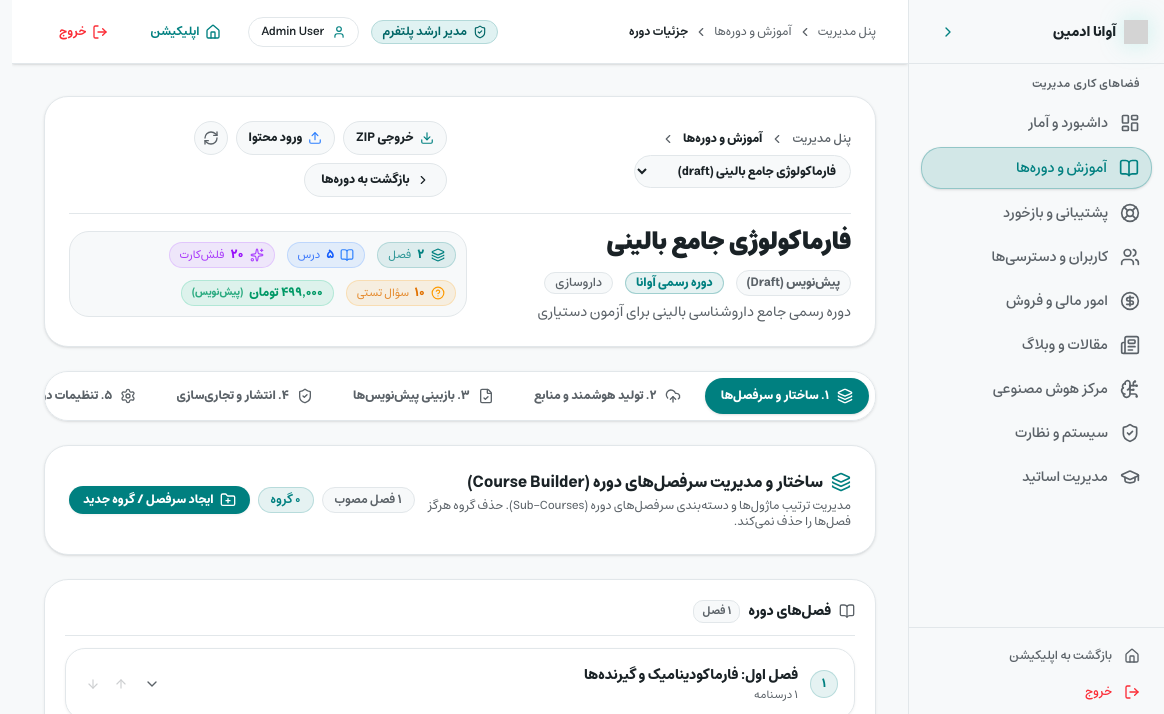
Test case: AdminCourseHubPage (/admin/courses/:courseId) › Case 5: Interactive tab switching renders the target panel
Check: the heading "فارماکولوژی جامع بالینی" is shown, box [607,226,851,258]
Click the button "۵. تنظیمات دوره" at {"x": 84, "y": 396}, box [15,378,152,414]
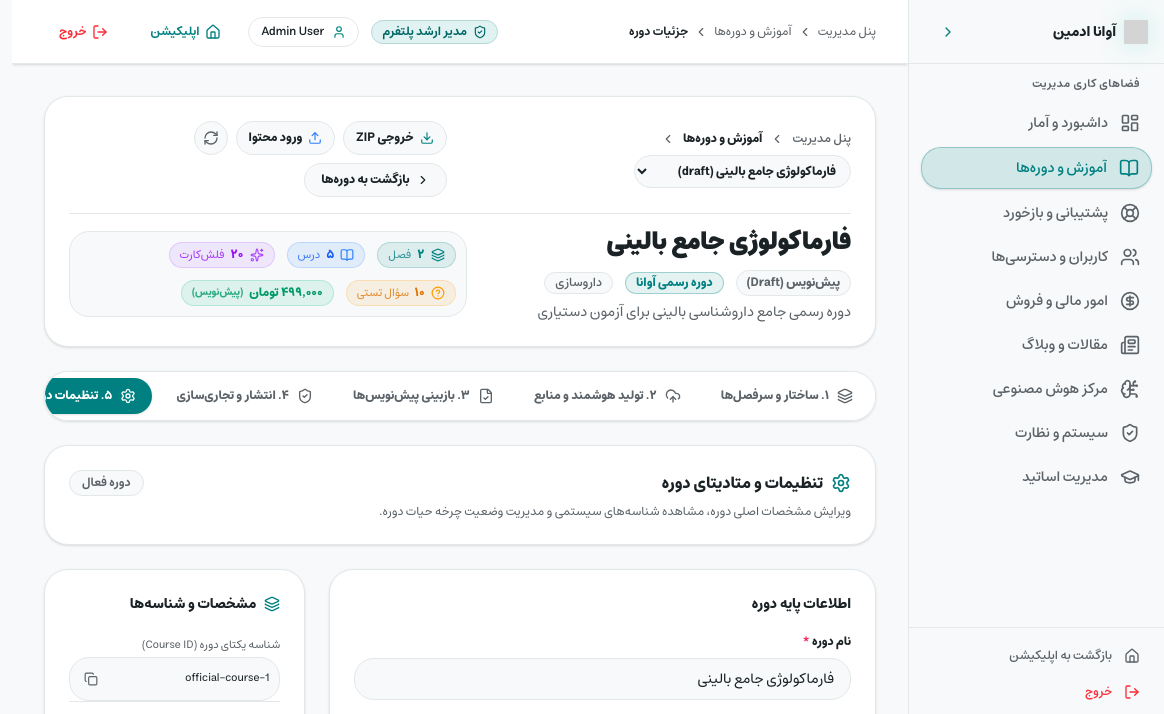
Check: the text "تنظیمات و متادیتای دوره" is shown, box [662,471,823,495]
Check: the text "اطلاعات پایه دوره" is shown, box [752,594,851,614]
Click the button "۴. انتشار و تجاری‌سازی" at {"x": 245, "y": 396}, box [160,378,329,414]
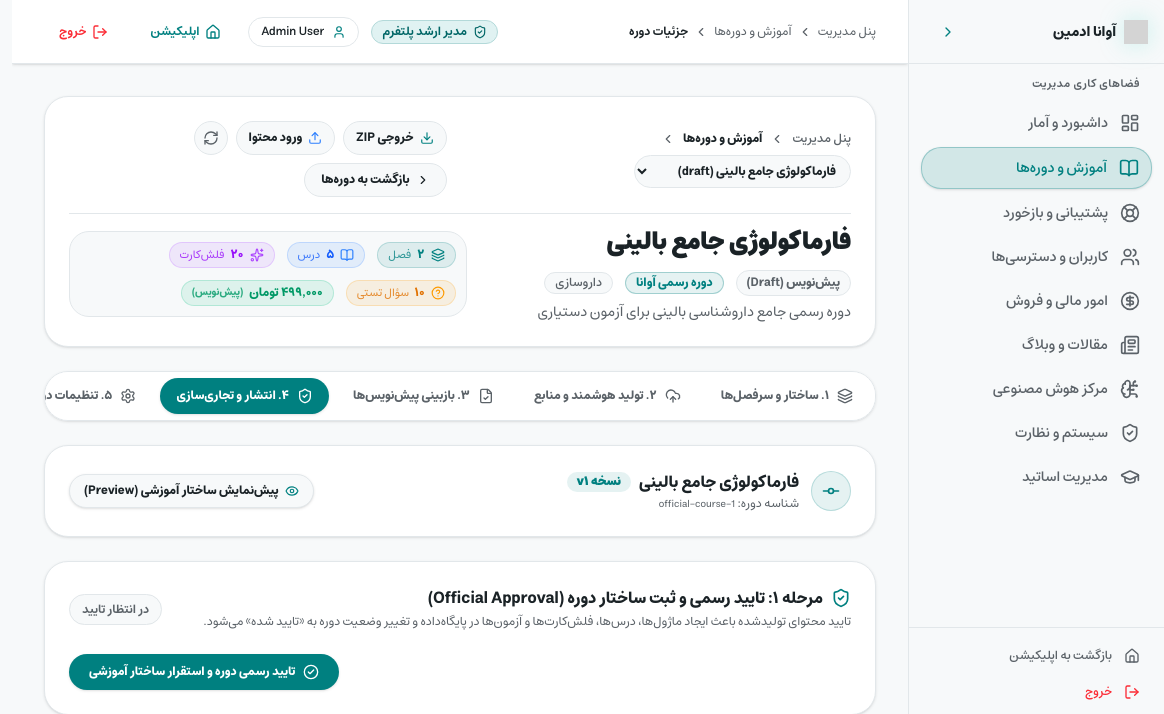
Check: the text "مرحله ۱: تایید رسمی و ثبت ساختار دوره (Official Approval)" is shown, box [428,586,823,610]
